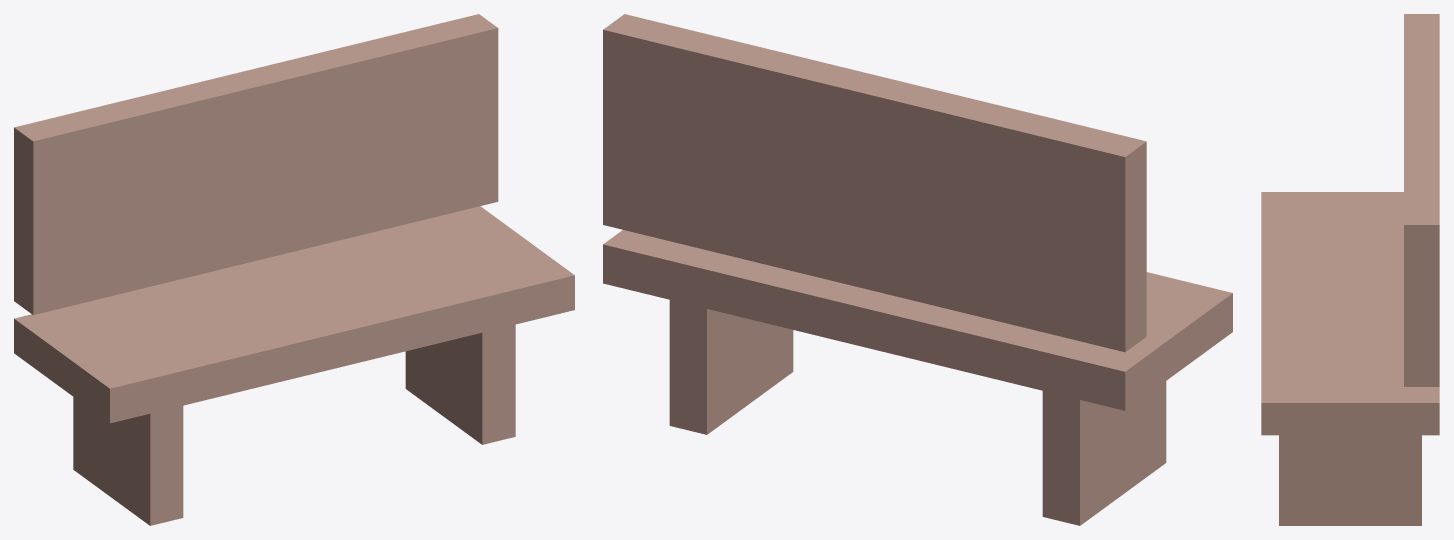
The model's file is prop_street_bench.glb.
3 renders of one model, left to right at view 1: azimuth 30°, elevation 25°; view 2: azimuth 150°, elevation 25°; view 3: azimuth 270°, elevation 25°, orthographic. The views are drawn at different scales.
Visible parts, largest first — view 1: prop_street_bench; view 2: prop_street_bench; view 3: prop_street_bench.
Part boxes in pixels (x1,y1,x2,y2): prop_street_bench: (14, 14, 574, 525); prop_street_bench: (603, 14, 1232, 525); prop_street_bench: (1261, 14, 1439, 525).
Size of the model in its own units: 1.4 by 1 by 0.5.
